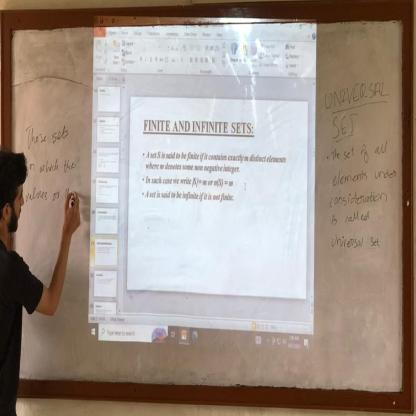Handwritten text: (318, 71, 396, 115), (20, 113, 78, 152), (327, 162, 401, 189), (330, 136, 394, 164), (324, 106, 367, 142), (325, 187, 391, 208), (330, 230, 382, 252), (24, 181, 63, 208), (34, 154, 78, 176), (329, 210, 374, 228)
Whiteboard: (10, 23, 408, 400)
